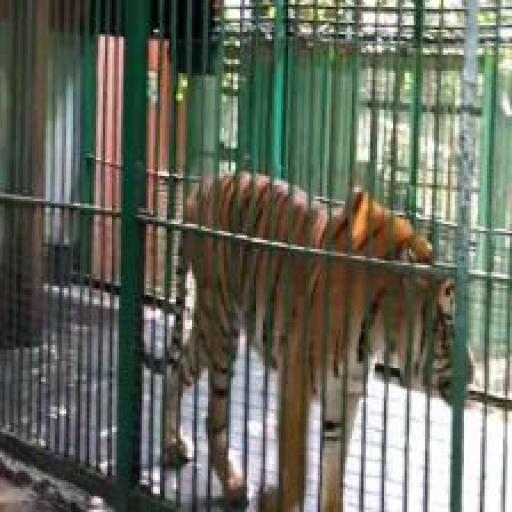Tiger: (144, 146, 479, 512)
